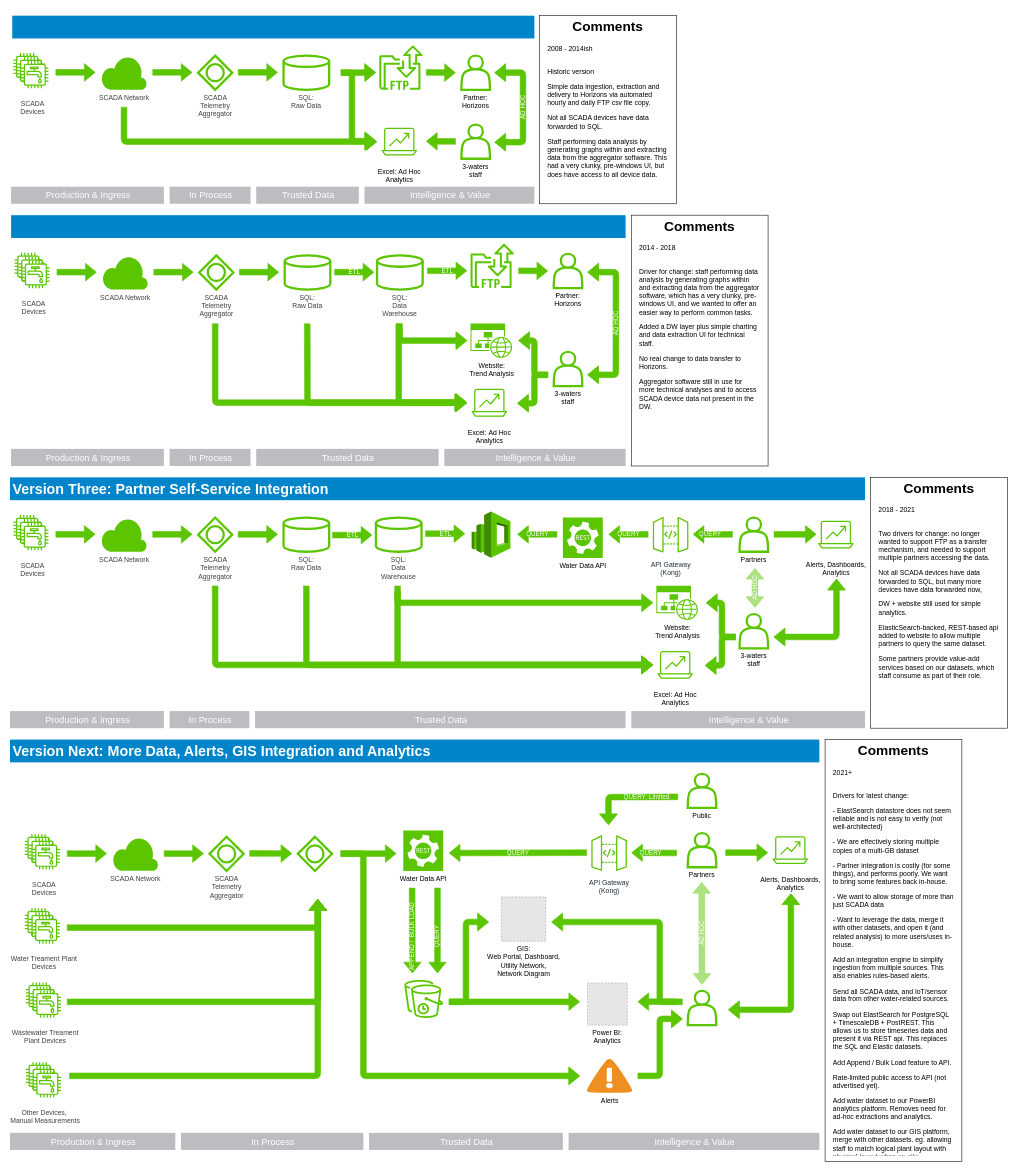
Image size: 1017x1171. Some labels were removed from this diagram. Grey dashed boxes stand in for pictures. Each missing label, with the centre of its shape:
"Elastic Search cluster" goes at [490,534].
"FTP" goes at [400,67].
"FTP to Horizons" goes at [492,265].
"Integration Engine (FME)" goes at [314,853].
"PNCC staff" goes at [701,1008].
"Time Series Datastore (Postgres + TimescaleDB + PostREST)" goes at [423,999].
"Version One: Legacy" goes at [273,26].
"Version Two: Adding Simple Analysis" goes at [318,226].
